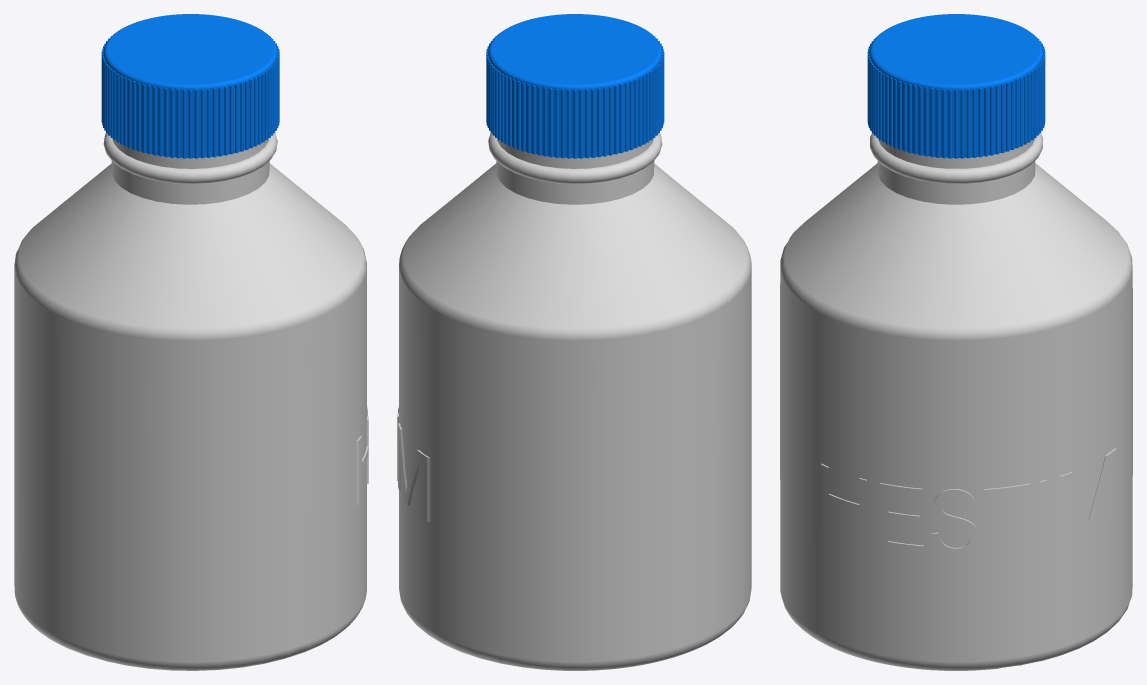
The model's file is G_flacon.fbx.
3 renders of one model, left to right at view 1: azimuth 30°, elevation 25°; view 2: azimuth 150°, elevation 25°; view 3: azimuth 270°, elevation 25°, orthographic.
Parts seen in each view (by area): view 1: SOLID, bouchon; view 2: SOLID, bouchon, COMPOUND005, COMPOUND011; view 3: SOLID, bouchon, COMPOUND005, COMPOUND001, COMPOUND002, COMPOUND, COMPOUND003, COMPOUND004.
Boxes of the visible parts, x1,y1,x2,y2 form: SOLID: (14,133,366,670); bouchon: (101,14,279,158); SOLID: (399,133,751,670); bouchon: (486,14,664,158); COMPOUND005: (398,423,426,521); COMPOUND011: (398,423,430,522); SOLID: (780,133,1132,670); bouchon: (867,14,1045,158); COMPOUND005: (1060,449,1115,540); COMPOUND001: (880,483,923,553); COMPOUND002: (931,489,977,556); COMPOUND: (821,465,866,544); COMPOUND003: (984,484,1030,552); COMPOUND004: (1039,480,1047,546).
Bounding box in the file's own units: 4.48 × 7.7 × 4.46.
